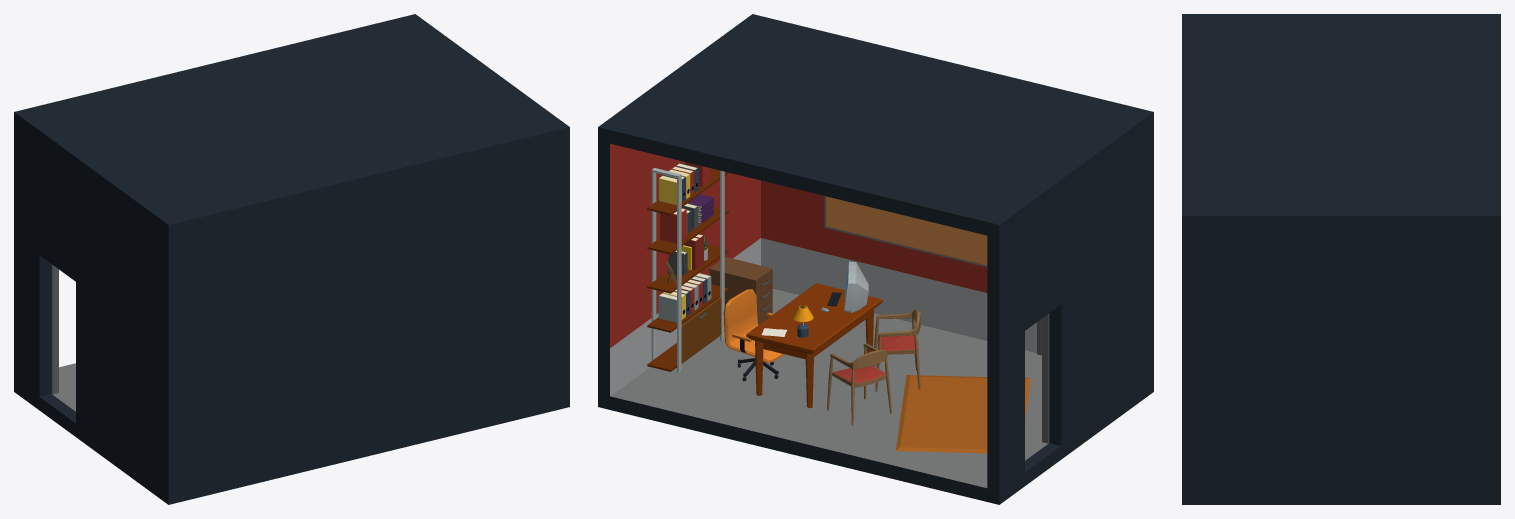
Rendered from Room_director_001.fbx.
The picture shows the model from 3 angles, left to right: view 1: azimuth 30°, elevation 25°; view 2: azimuth 150°, elevation 25°; view 3: azimuth 270°, elevation 25°; orthographic projection. The views are drawn at different scales.
Parts seen in each view (by area): view 1: Room_Tiny_001.003; view 2: Room_Tiny_001.003; view 3: Room_Tiny_001.003.
Part boxes in pixels (x1,y1,x2,y2): Room_Tiny_001.003: [14, 14, 569, 504]; Room_Tiny_001.003: [598, 14, 1153, 504]; Room_Tiny_001.003: [1182, 14, 1500, 504].
Size of the model in its own units: 600 by 400 by 400.
